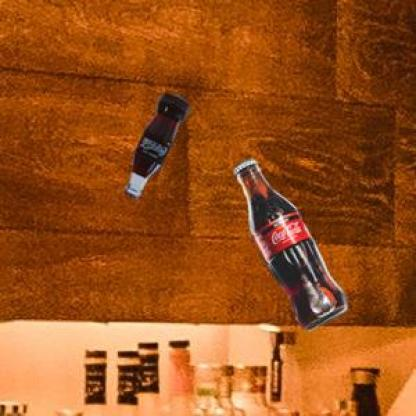bottle: (230, 156, 351, 338), (123, 90, 191, 200)
